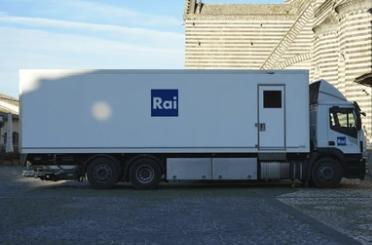vehicle: (18, 69, 367, 189)
